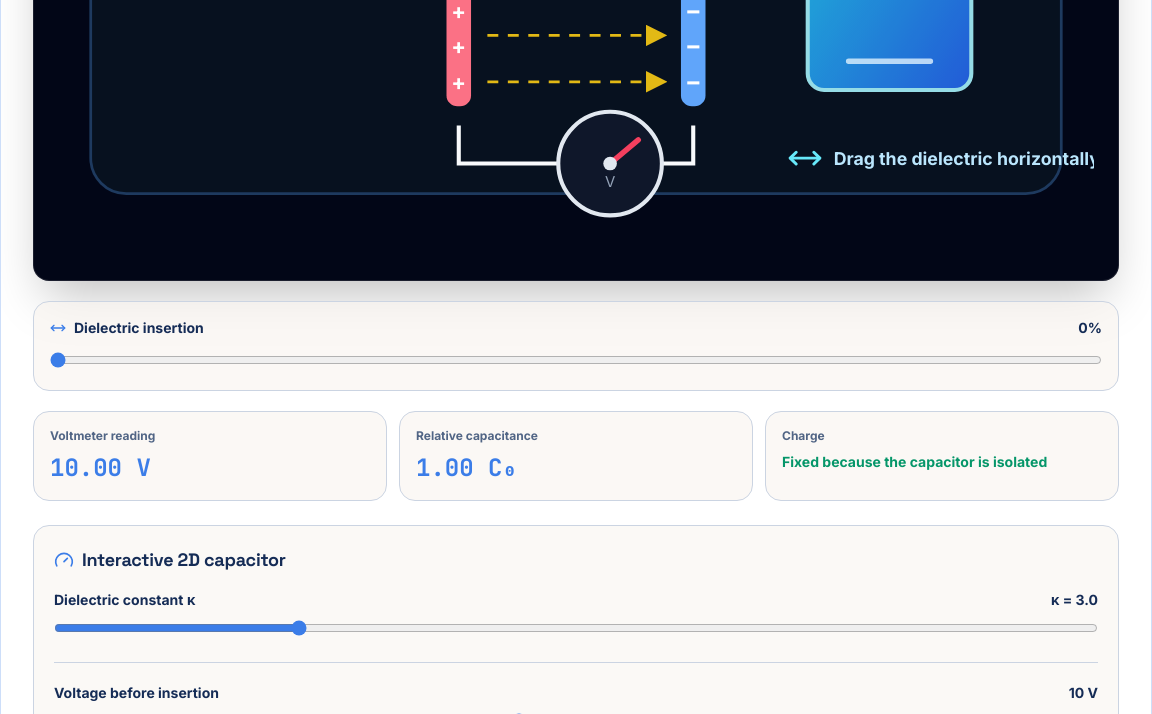
Test: DielectricCapacitorActivity › reduces voltage when the dielectric is inserted
(page scrolled)
Set the slider named "Dielectric insertion" to "1" at (1094, 360), box [50,352,1102,368]
(page scrolled)
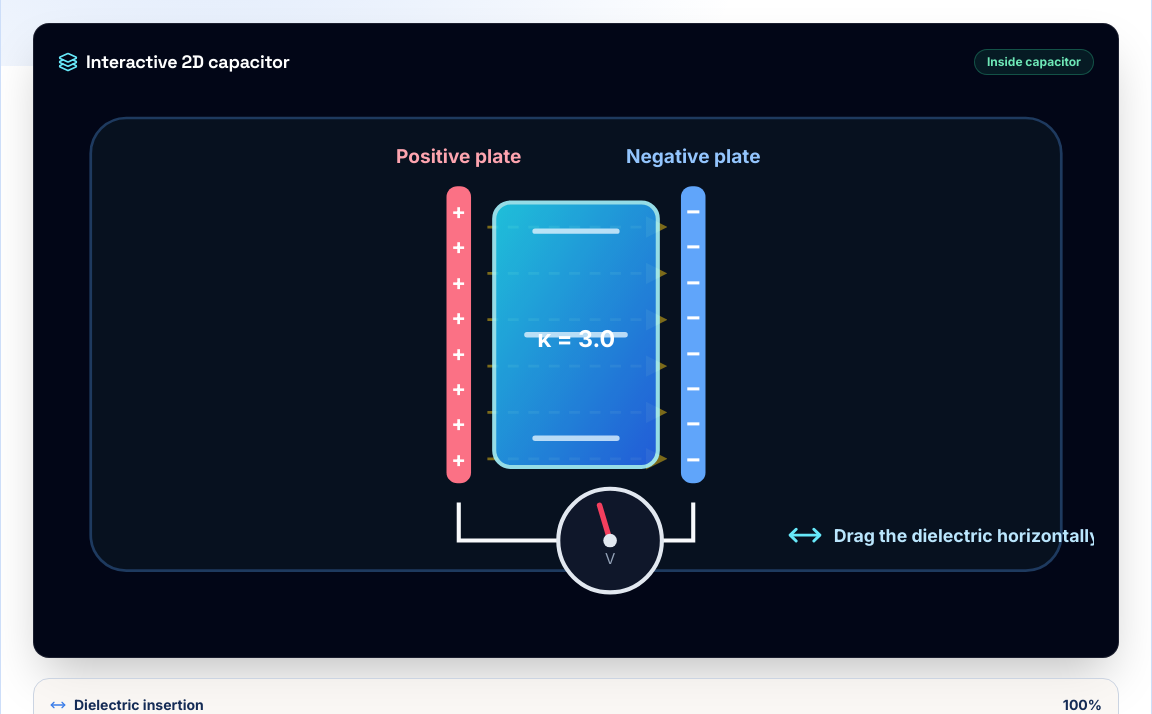
Now the picture named "Interactive 2D capacitor" has attribute data-insertion="1.00"
Now the picture named "Interactive 2D capacitor" has attribute data-voltage="3.33"
